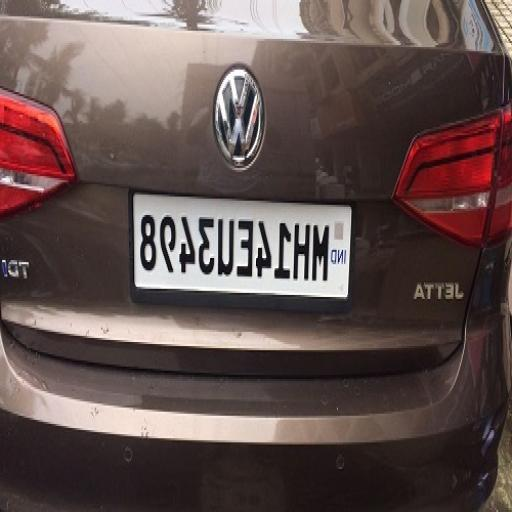License: (132, 186, 354, 299)
